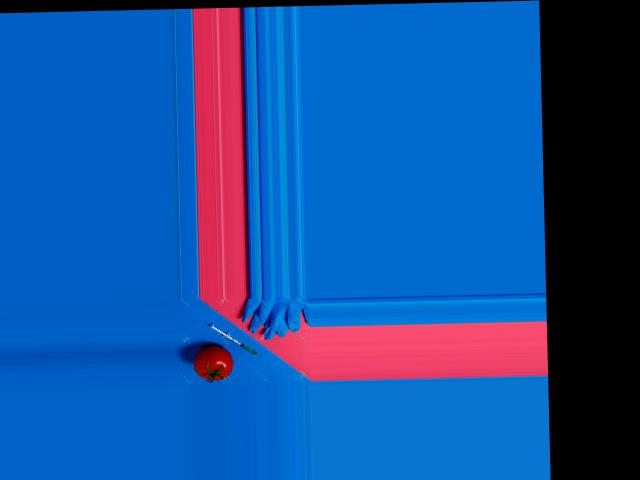tomato: (194, 344, 233, 380)
